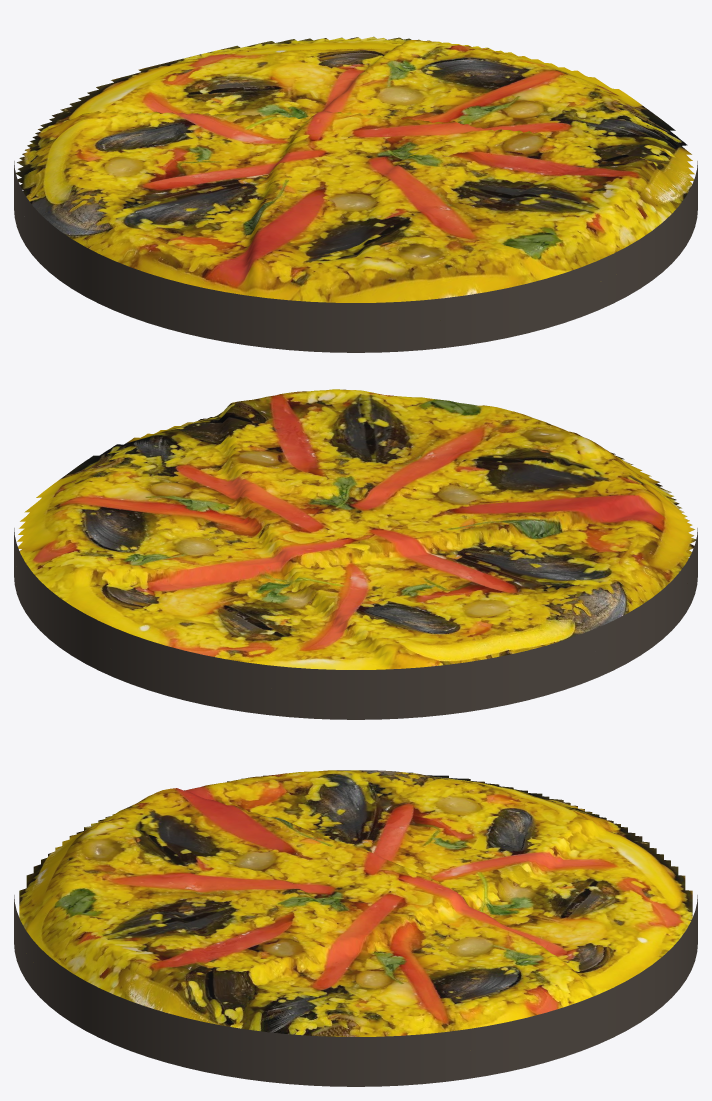
File: plato.glb
3 views of the same model, one above another, from view 1: azimuth 30°, elevation 25°; view 2: azimuth 150°, elevation 25°; view 3: azimuth 270°, elevation 25° (orthographic).
Bounding box in the file's own units: 0.2985 × 0.0309 × 0.2985.
Materials: 2 (1 with a texture image).
